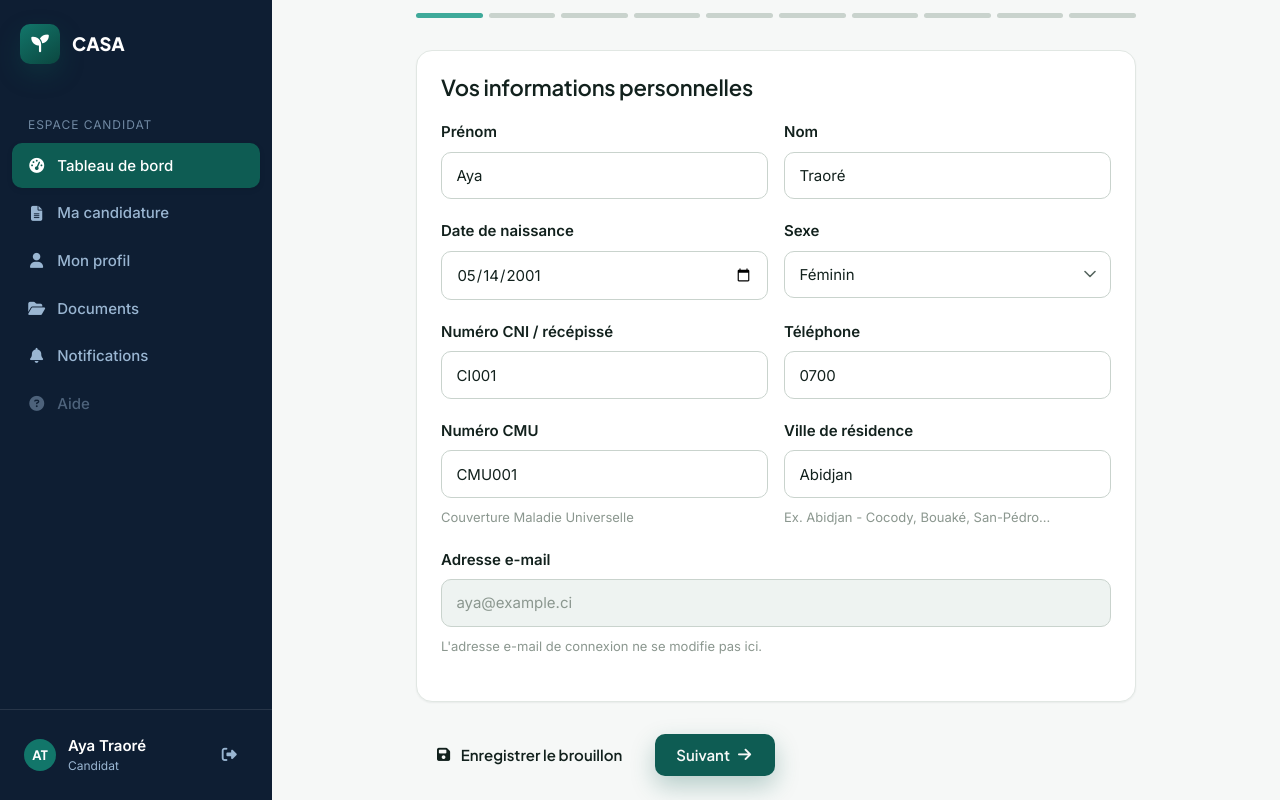
Test: CandidatureWizard › « Suivant » de l’étape 1 ATTEND le PATCH profil avant d’avancer, et ne l’ignore pas s’il échoue
The width and height of the screenshot is (1280, 800).
(page scrolled)
Expected: the heading "Vos informations personnelles" is shown, [441,73,753,101]
Click the button "Suivant": (715, 755) [655,734,775,776]
(page scrolled)
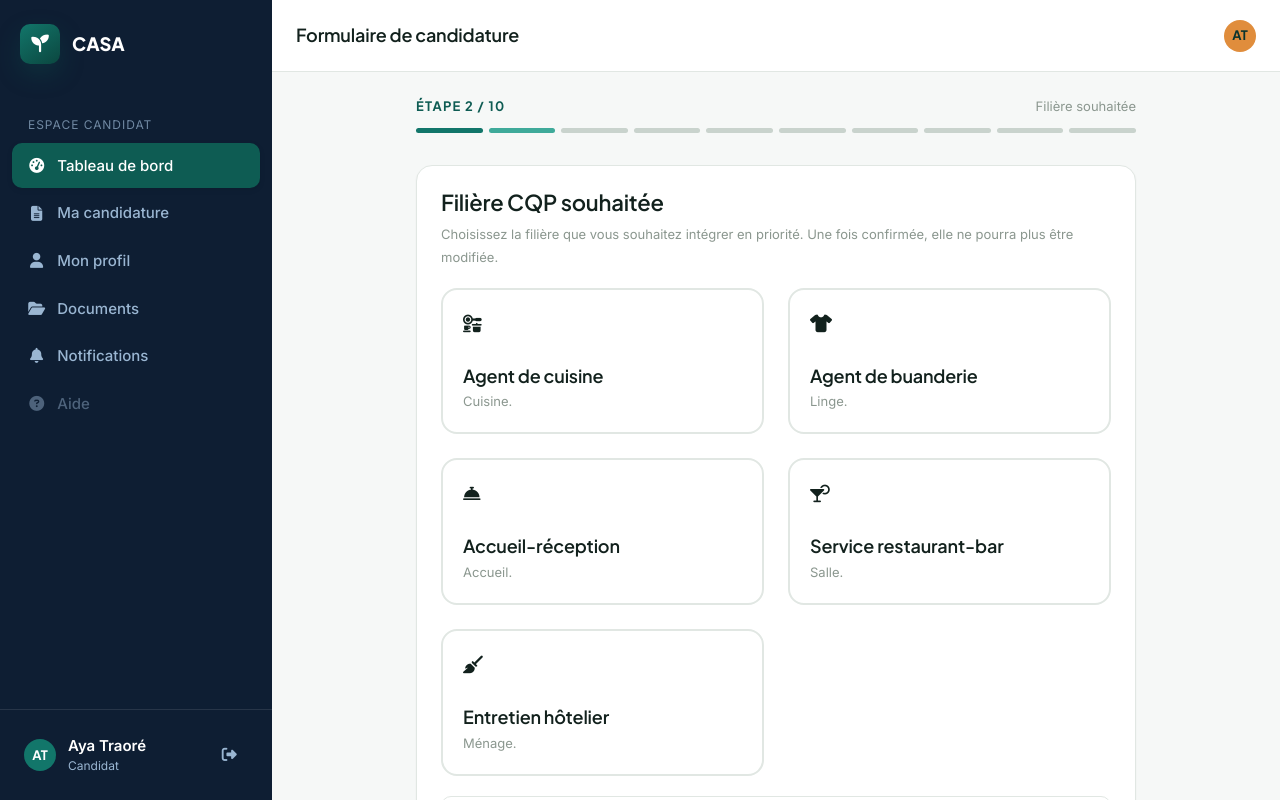
Now the text "Étape 2 / 10" is shown, box [416,96,505,116]
